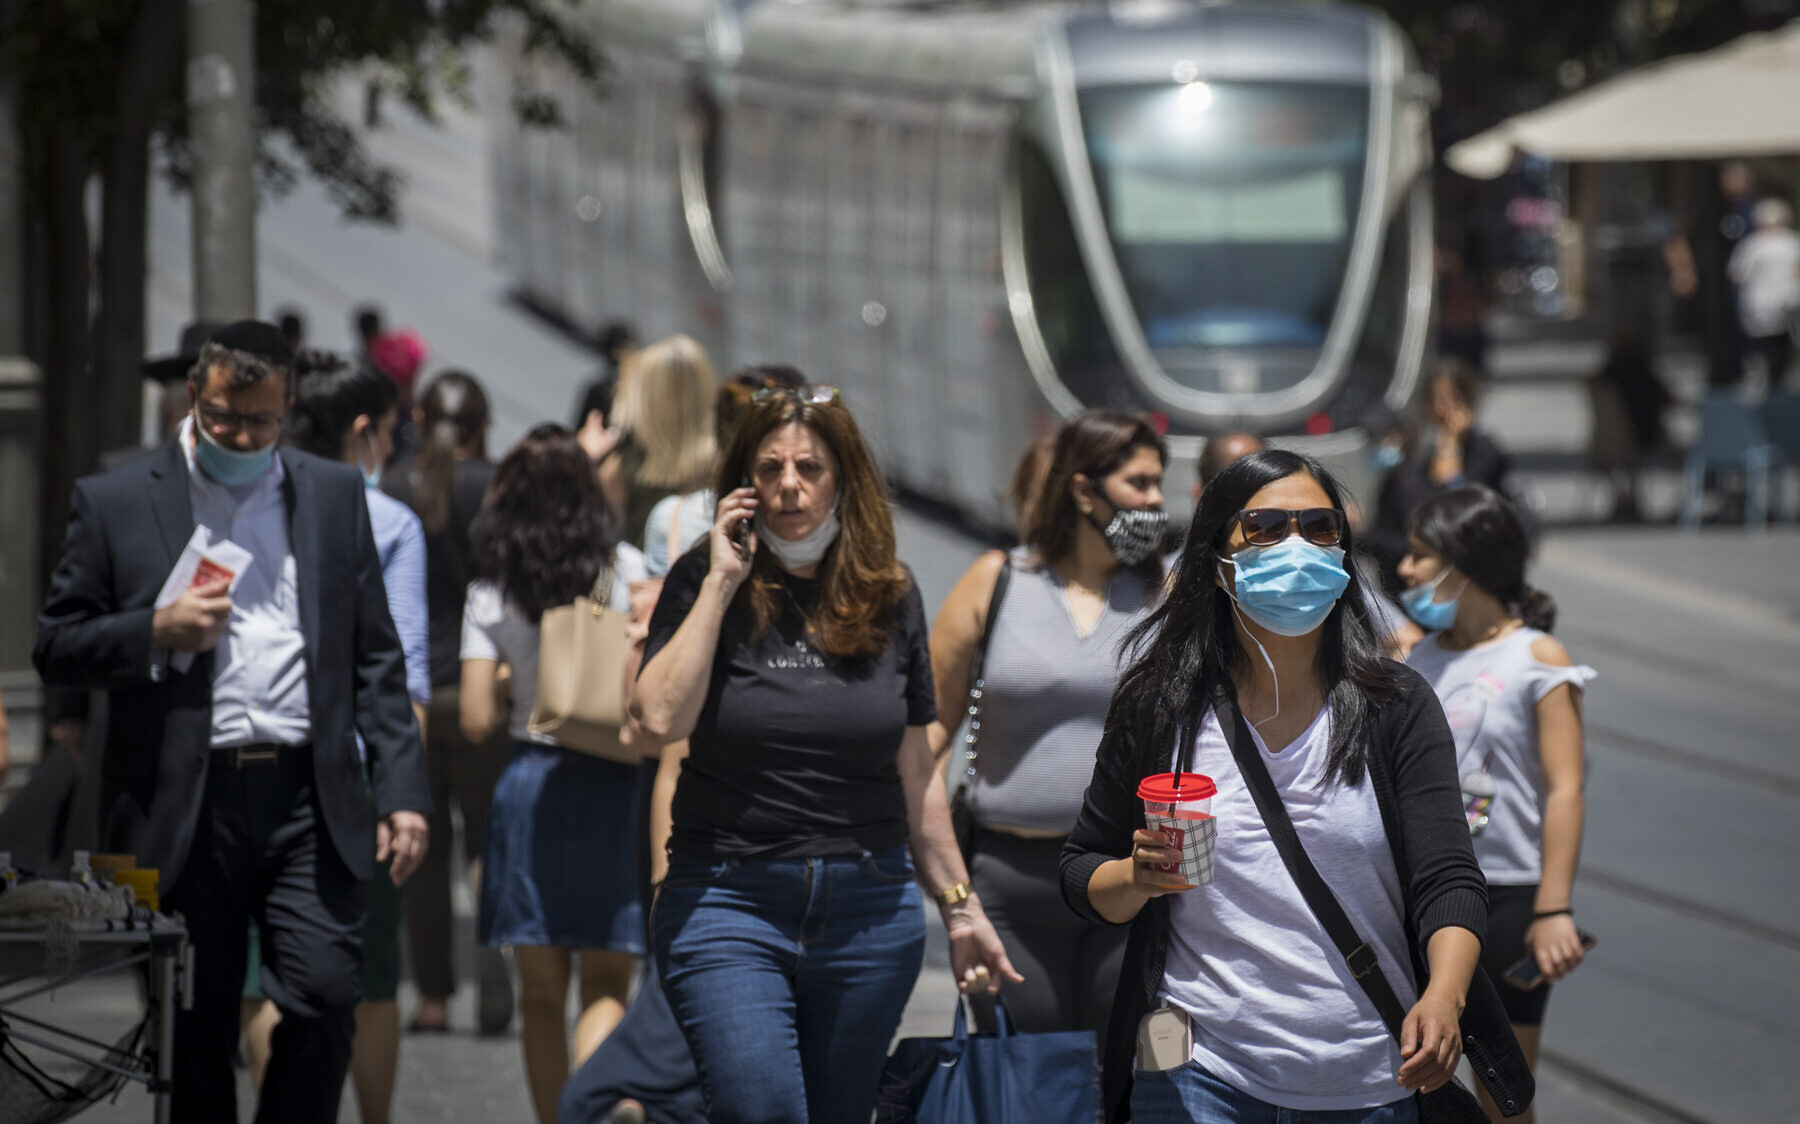with_incorrect_mask: (753, 443, 841, 577), (192, 379, 283, 479), (1398, 528, 1479, 639), (1094, 449, 1172, 560)
with_mask: (1230, 481, 1355, 641)
